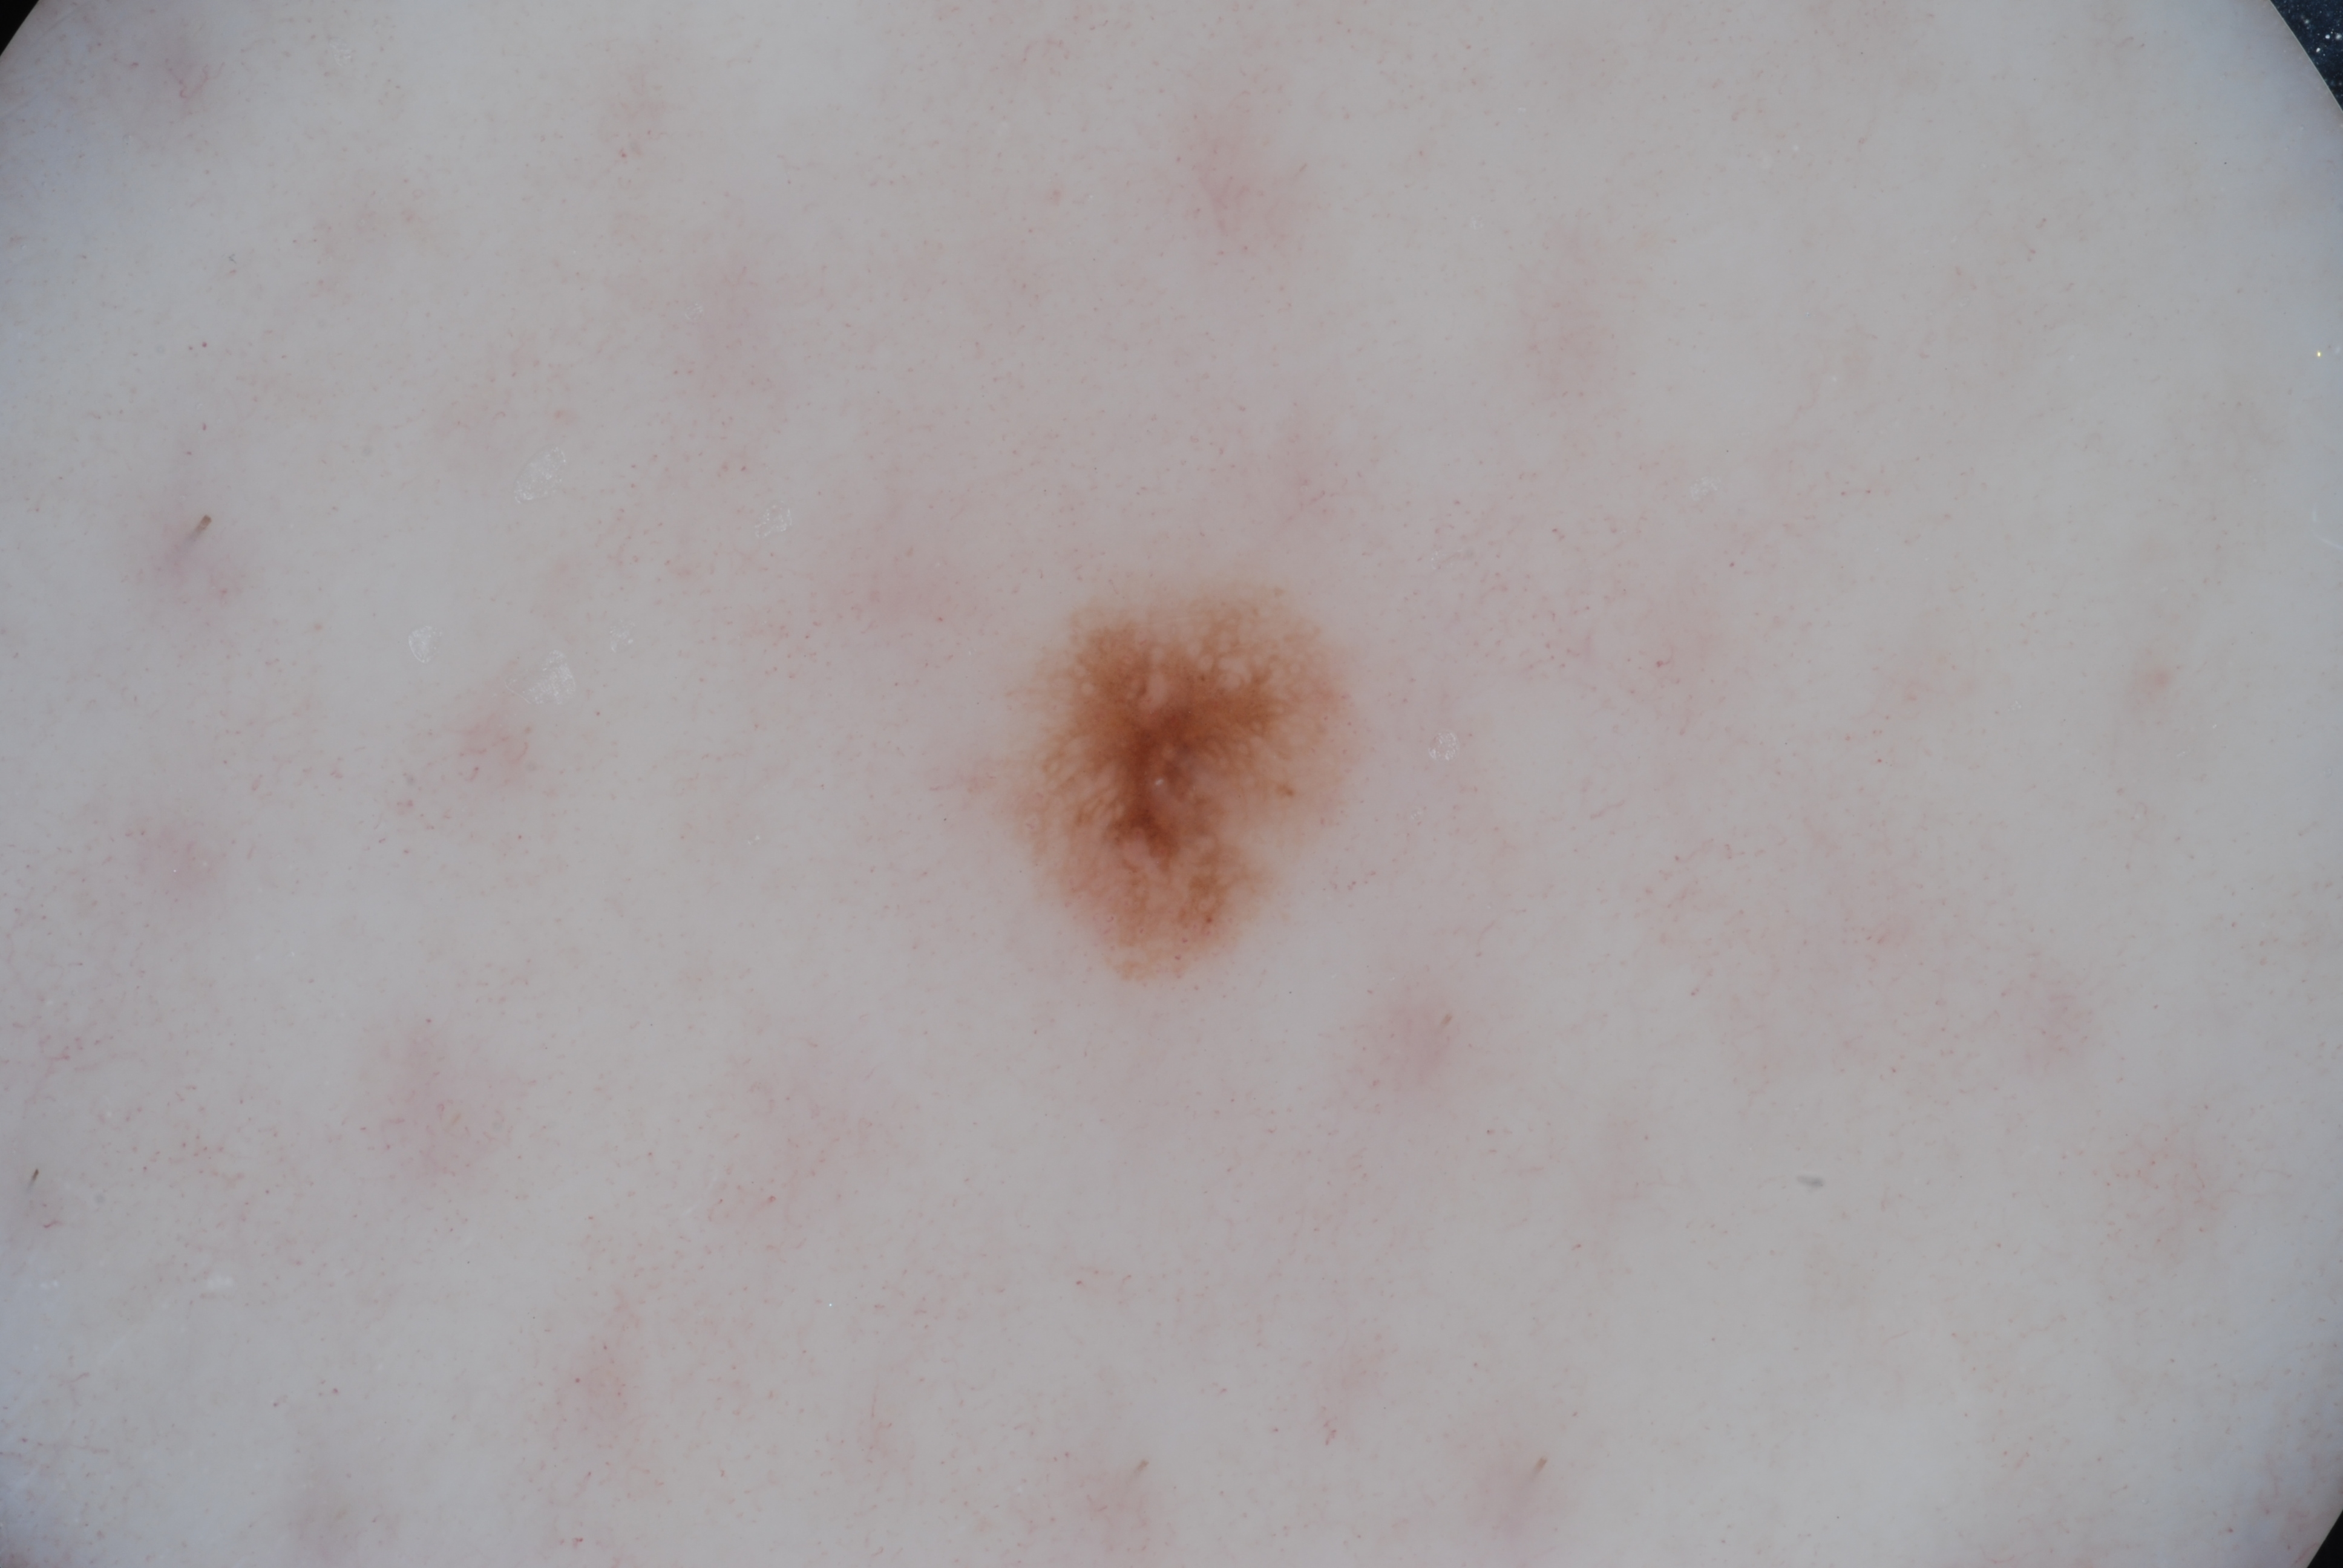Detected Lesion: (985, 574, 1370, 1004)
